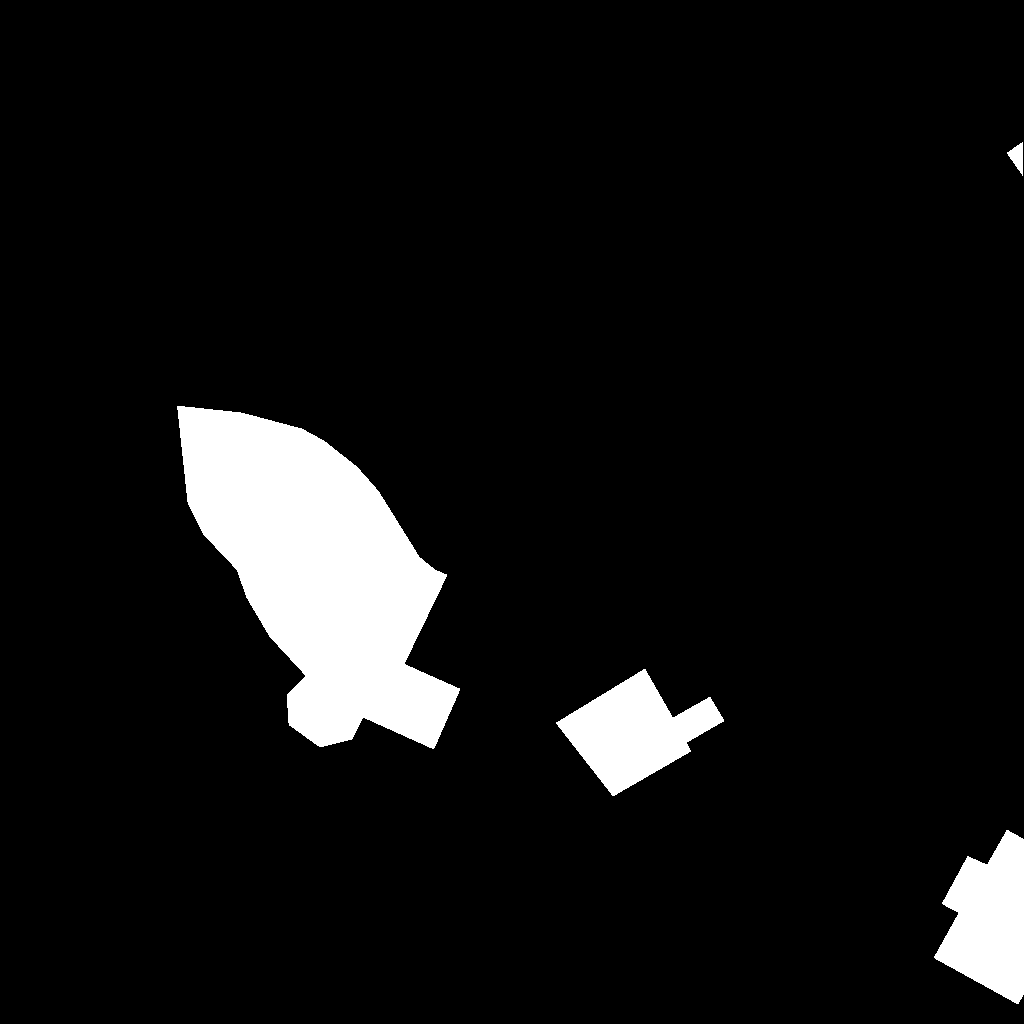building: (177, 406, 461, 750), (556, 669, 725, 797), (934, 830, 1024, 1005), (1007, 142, 1024, 177)
